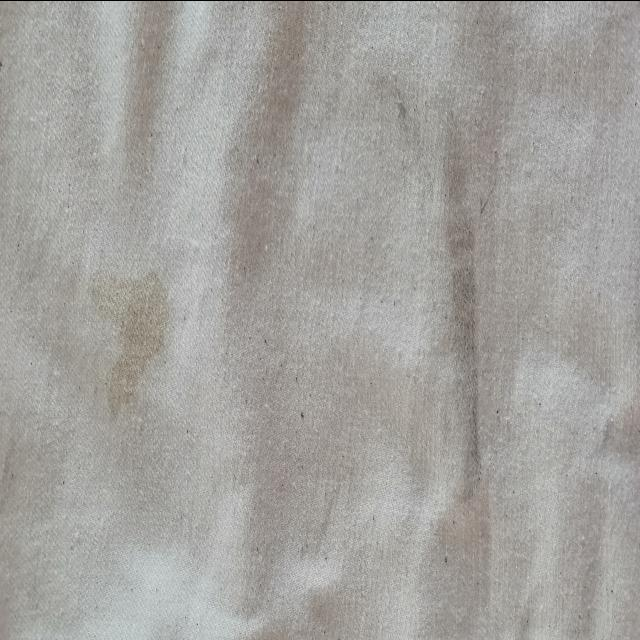taaaches: (430, 46, 500, 552), (80, 258, 198, 427), (359, 46, 414, 146)
